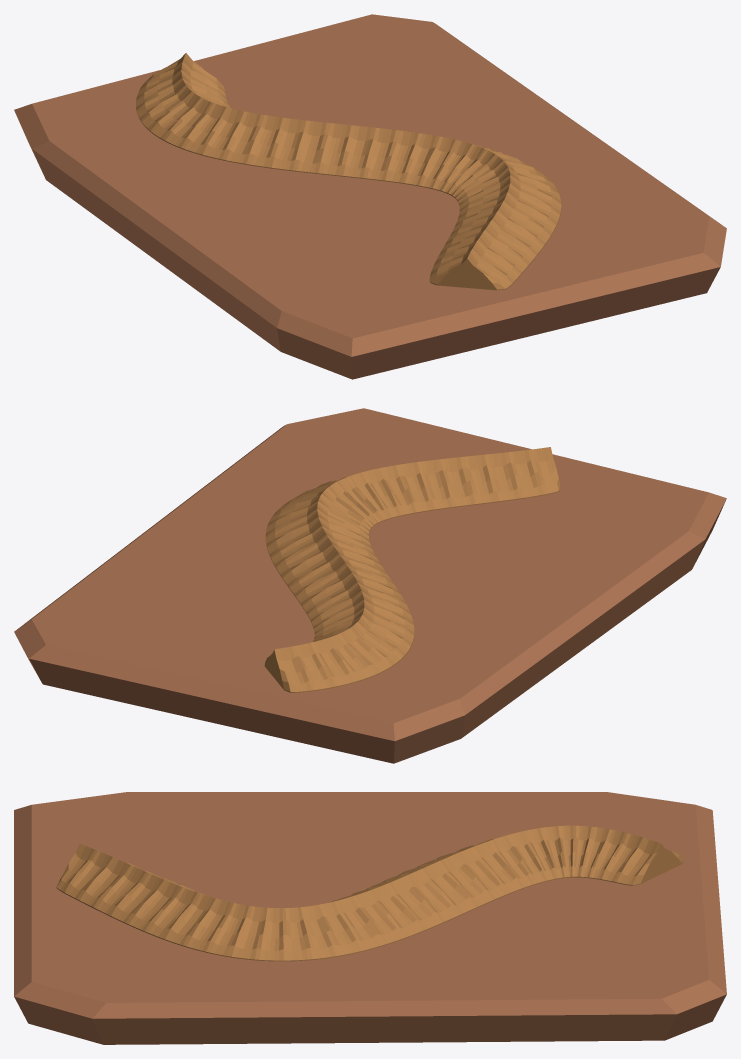
File: psammichnites-ribbon-trace.glb
3 renders of one model, top to bottom at view 1: azimuth 30°, elevation 25°; view 2: azimuth 150°, elevation 25°; view 3: azimuth 270°, elevation 25°, orthographic. The views are drawn at different scales.
Visible parts, largest first — view 1: Illustrative sandstone slab, Raised ribbon median ridge and transverse divisions; view 2: Illustrative sandstone slab, Raised ribbon median ridge and transverse divisions; view 3: Illustrative sandstone slab, Raised ribbon median ridge and transverse divisions.
Boxes of the visible parts, bbox=[...] form: Illustrative sandstone slab: bbox=[14, 14, 726, 379]; Raised ribbon median ridge and transverse divisions: bbox=[136, 53, 561, 290]; Illustrative sandstone slab: bbox=[14, 408, 726, 763]; Raised ribbon median ridge and transverse divisions: bbox=[264, 447, 560, 692]; Illustrative sandstone slab: bbox=[14, 792, 726, 1044]; Raised ribbon median ridge and transverse divisions: bbox=[56, 825, 683, 961].
Bounding box in the file's own units: 0.28 × 0.042 × 0.38.
